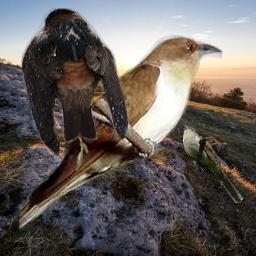Cuckoo: (19, 34, 223, 231), (182, 124, 243, 203)
Swallow: (21, 8, 130, 157)
